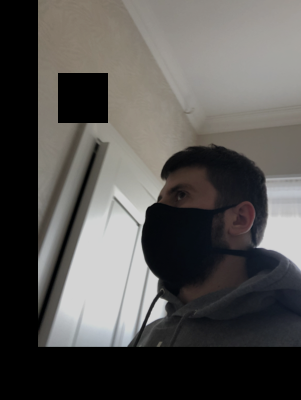with_mask: (140, 177, 218, 284)
